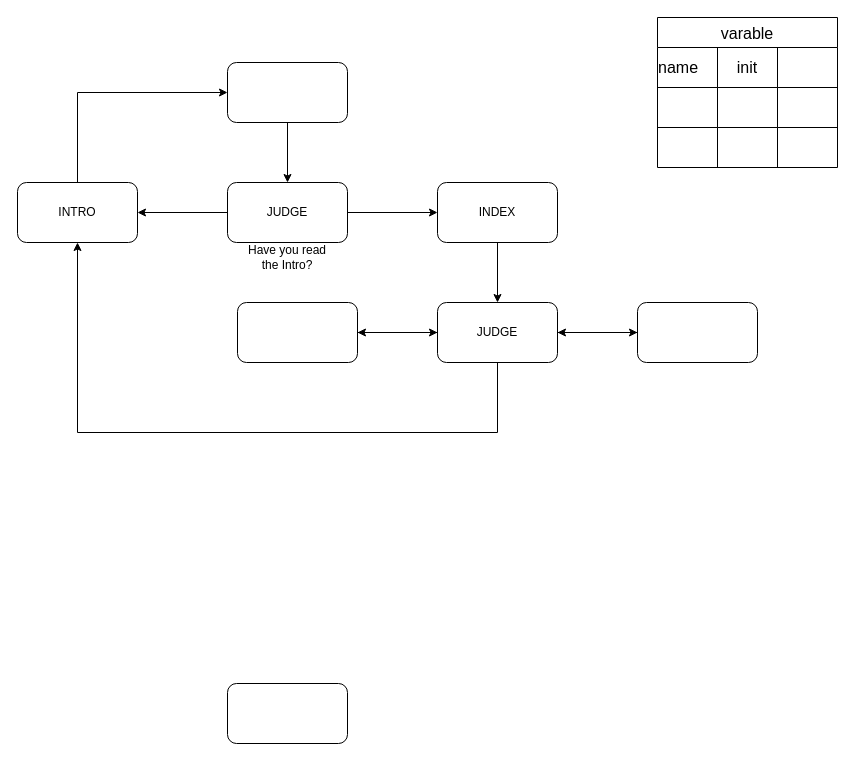
The diagram is 855 pixels wide and 761 high, and some of its shapes have lost their labels. Here are the shapes that lost their labels. From the top down, the centre of each, then its label:
At point (287, 92): "START".
At point (287, 713): "Sonicraft".
